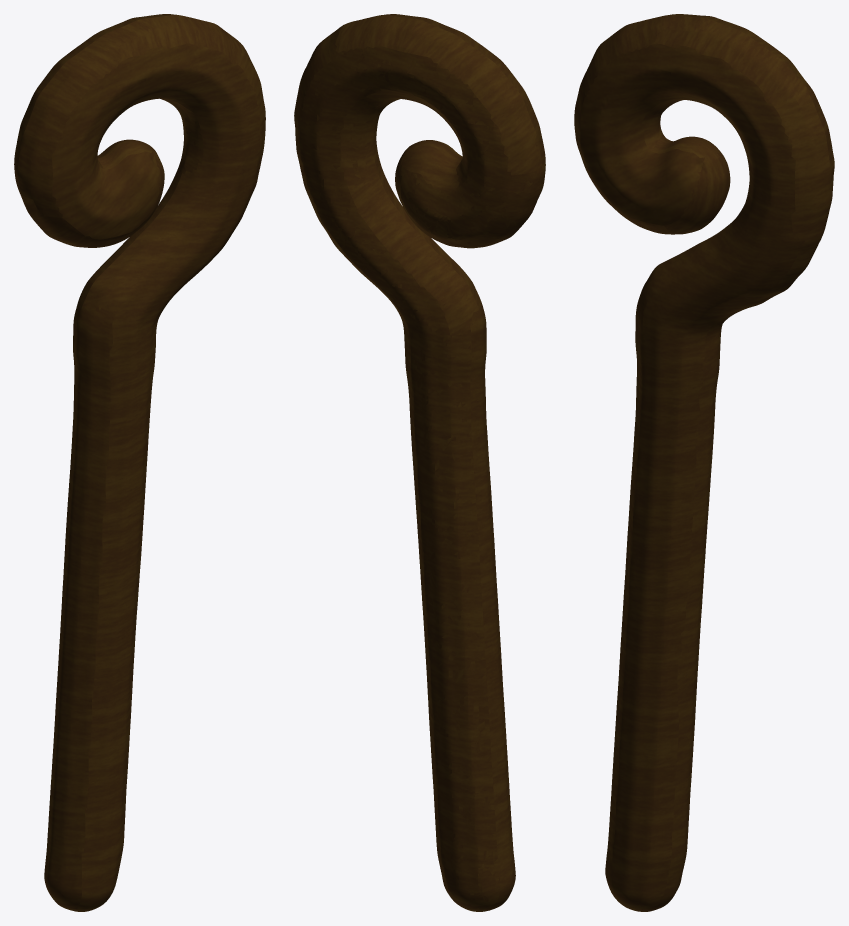
File: item_staff_wood.glb
3 renders of one model, left to right at view 1: azimuth 30°, elevation 25°; view 2: azimuth 150°, elevation 25°; view 3: azimuth 330°, elevation 25°, orthographic. The views are drawn at different scales.
Parts seen in each view (by area): view 1: tmp0rtjtuki.ply; view 2: tmp0rtjtuki.ply; view 3: tmp0rtjtuki.ply.
Part boxes in pixels (left/top/right/bottom): tmp0rtjtuki.ply: left=14, top=14, right=265, bottom=911; tmp0rtjtuki.ply: left=294, top=14, right=545, bottom=911; tmp0rtjtuki.ply: left=574, top=14, right=834, bottom=911.
Size of the model in its own units: 0.575 by 1.96 by 0.1587.
Materials: 1 (1 with a texture image).
